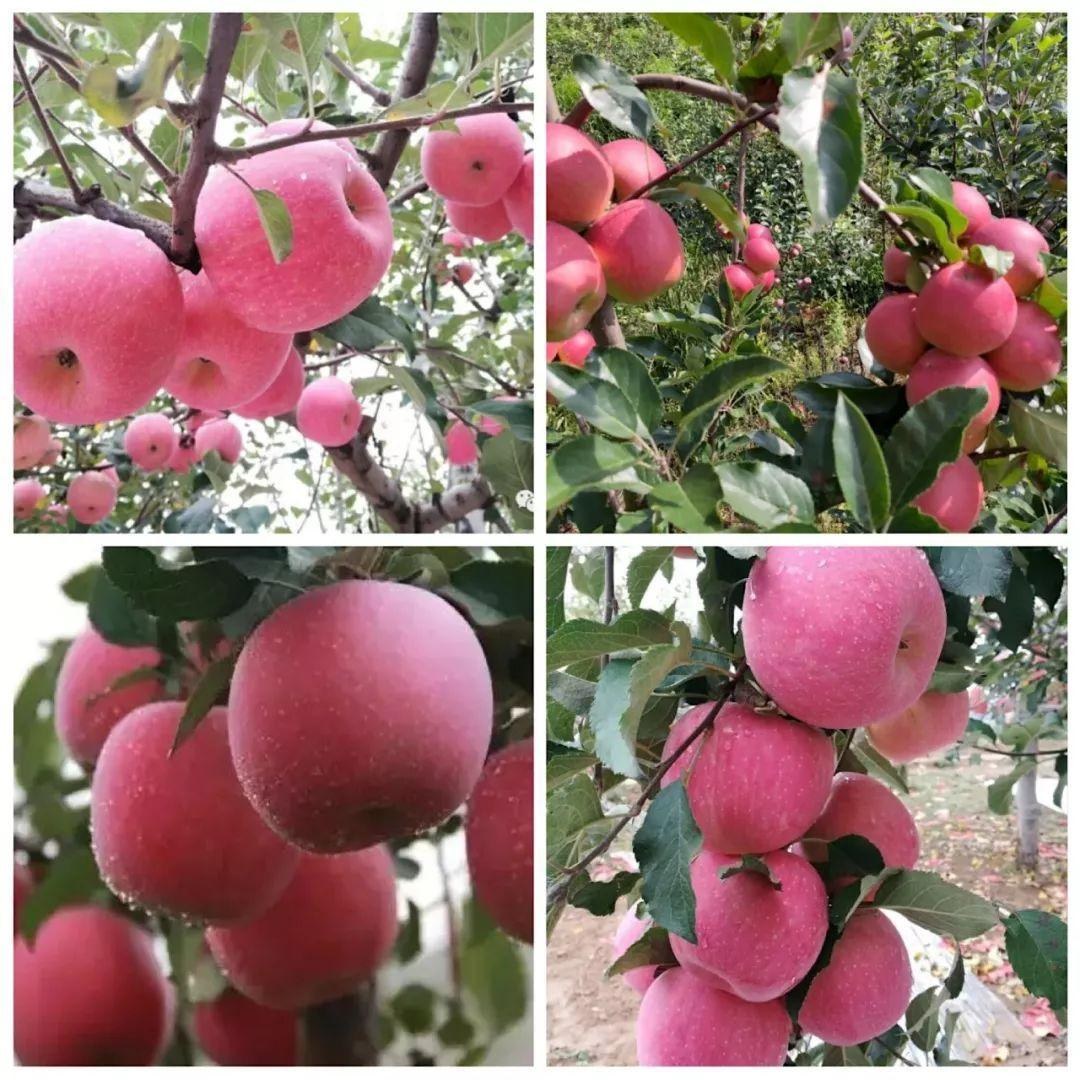apple: (223, 576, 491, 858), (92, 700, 298, 924), (193, 133, 395, 334), (738, 547, 944, 731), (8, 217, 181, 422), (657, 700, 837, 859), (665, 847, 829, 994), (161, 269, 294, 413), (795, 903, 912, 1046), (633, 963, 792, 1062), (792, 769, 919, 879), (915, 260, 1017, 359), (418, 110, 521, 207), (590, 198, 685, 302), (547, 121, 616, 224), (970, 216, 1050, 295)
